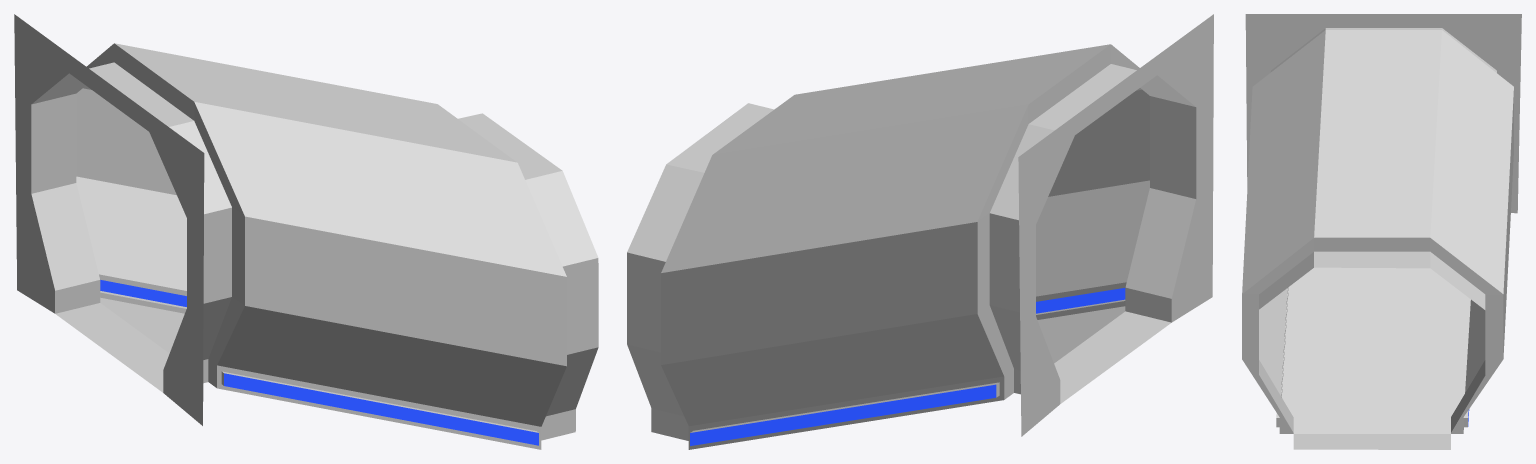
Rendered from zone-portal-disco.glb.
The picture shows the model from 3 angles, left to right: view 1: azimuth 30°, elevation 25°; view 2: azimuth 150°, elevation 25°; view 3: azimuth 270°, elevation 25°; orthographic projection. The views are drawn at different scales.
Visible parts, largest first — view 1: portal dance, lights portal dance; view 2: portal dance, lights portal dance; view 3: portal dance.
Boxes of the visible parts, x1,y1,x2,y2 form: portal dance: (14, 14, 598, 449); lights portal dance: (100, 280, 538, 445); portal dance: (627, 14, 1213, 449); lights portal dance: (690, 288, 1125, 445); portal dance: (1242, 14, 1521, 449).
Bounding box in the file's own units: 6.76 × 6.4 × 5.55.
